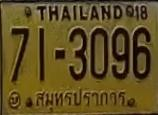0: (90, 27, 108, 79)
1: (39, 28, 44, 81)
3: (68, 27, 86, 80)
6: (132, 27, 150, 79)
7: (10, 27, 28, 79)
9: (111, 27, 129, 79)
SPK: (32, 85, 127, 112)
